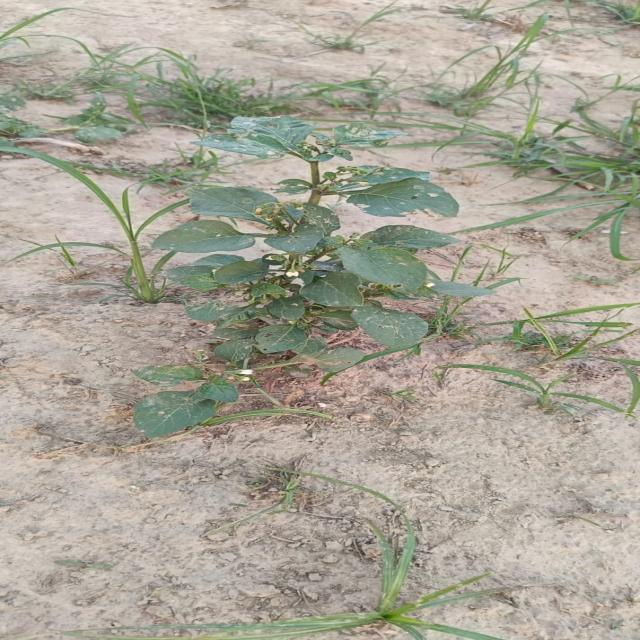plant: (135, 116, 491, 437)
